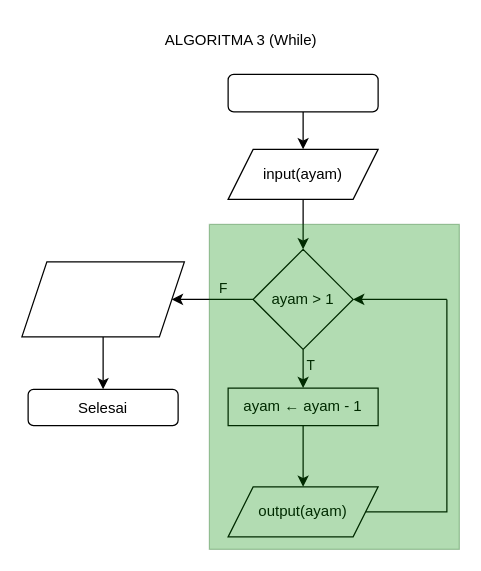
This 481x571 diagram has some shape labels left out. The box of each missing label's shape, as (x1, y1, x2, y2) in pixels:
Mulai: (227, 73, 378, 112)
output("mati satu tinggal induknya"): (21, 261, 184, 337)
